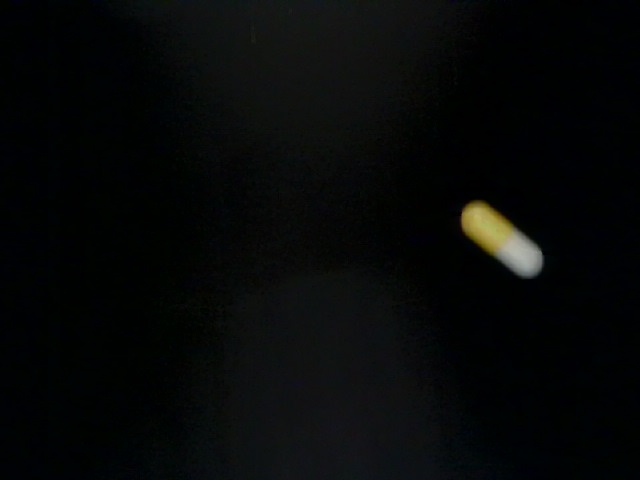YHLJ: (247, 396, 497, 476)
